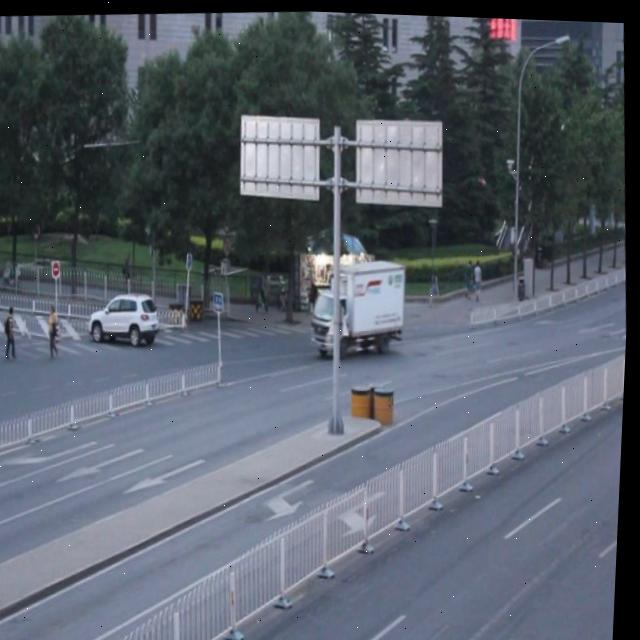bus: (309, 258, 411, 361)
car: (89, 285, 164, 345)
